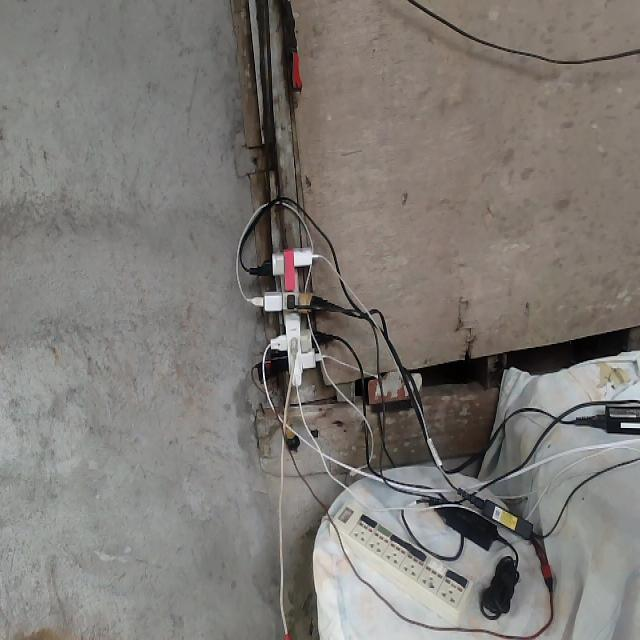-: (252, 243, 325, 388)
